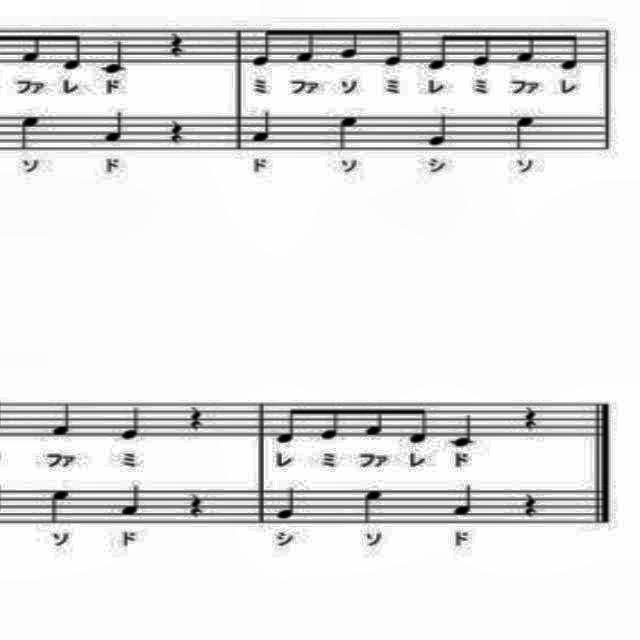Eighth-note: (248, 23, 278, 72), (274, 401, 302, 452), (292, 25, 324, 69), (424, 28, 456, 72), (55, 32, 85, 74), (362, 399, 392, 441), (405, 401, 431, 449), (468, 26, 496, 70), (318, 399, 346, 443), (382, 26, 406, 74), (512, 28, 540, 68), (558, 30, 582, 72), (16, 29, 42, 66), (338, 24, 362, 62)
Quarter-note: (99, 38, 138, 78), (508, 112, 544, 152), (447, 409, 479, 451), (117, 398, 147, 442), (273, 483, 303, 525), (336, 113, 364, 155), (359, 489, 388, 529), (448, 483, 478, 521), (101, 106, 129, 146), (120, 480, 148, 520), (250, 106, 278, 146), (50, 398, 78, 438), (426, 110, 452, 150), (45, 484, 71, 524), (18, 114, 44, 152)
Quarter-rest: (184, 402, 210, 434), (166, 29, 190, 60), (163, 114, 185, 146), (520, 488, 540, 522), (522, 402, 542, 433), (187, 489, 205, 523)
